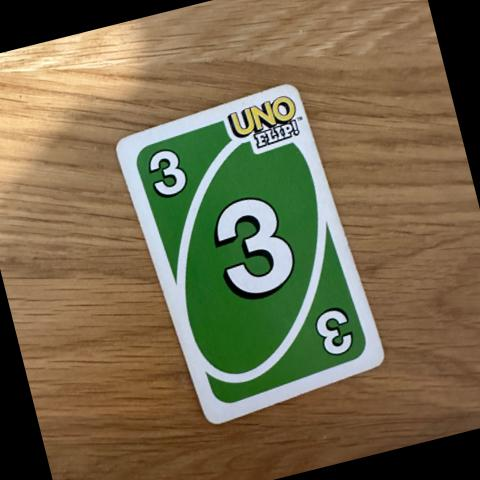9_yellow: (214, 189, 294, 300), (144, 149, 187, 197), (312, 308, 354, 356)
